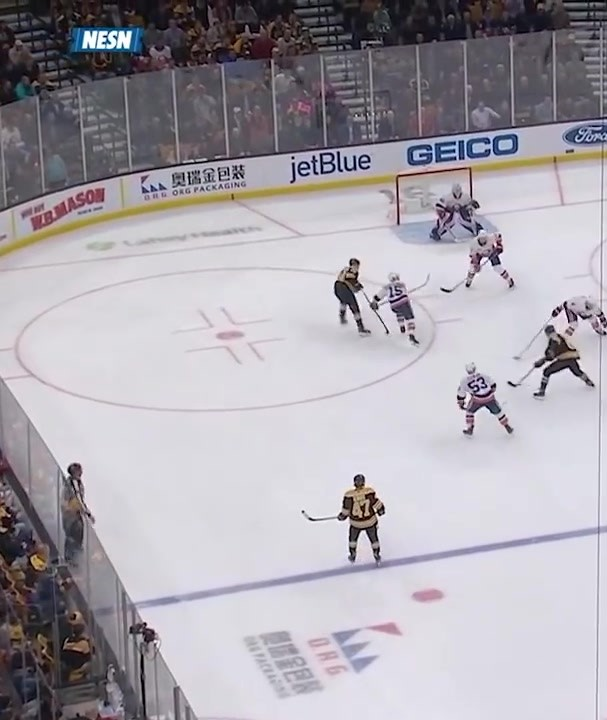Geico: (403, 133, 534, 171)
